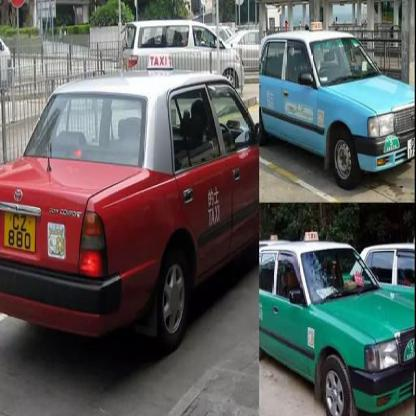taxi: (1, 53, 259, 357), (260, 231, 416, 411), (259, 21, 416, 192)
